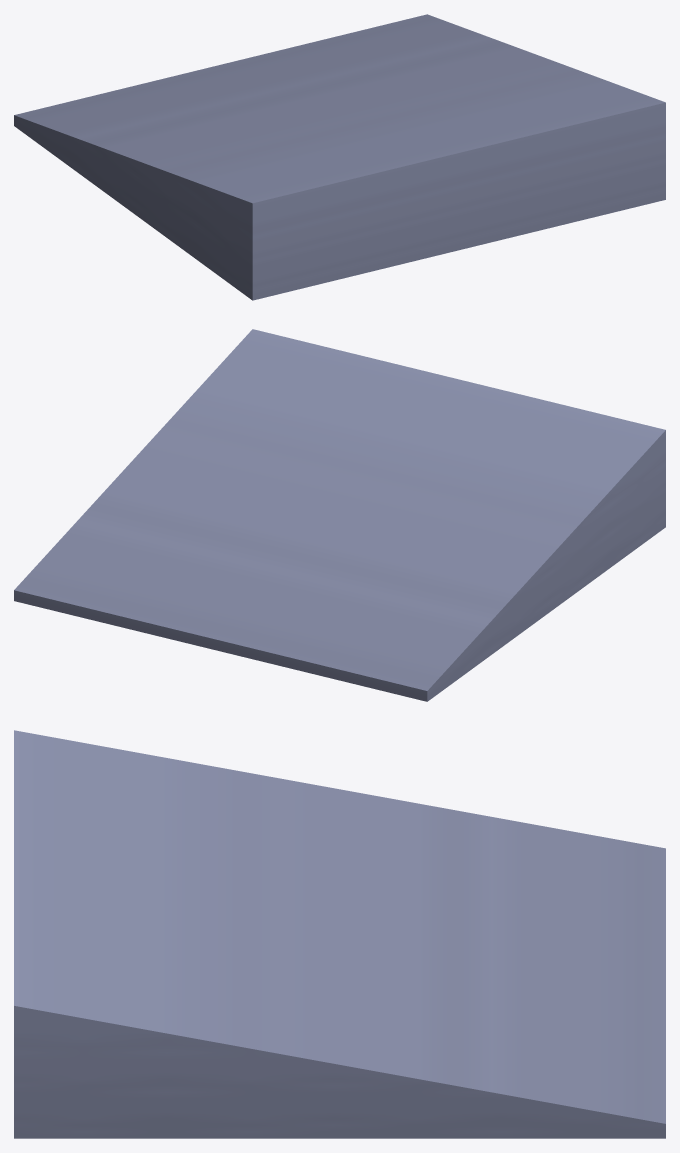
File: roadSlope.fbx
3 renders of one model, top to bottom at view 1: azimuth 30°, elevation 25°; view 2: azimuth 150°, elevation 25°; view 3: azimuth 270°, elevation 25°, orthographic. The views are drawn at different scales.
Parts seen in each view (by area): view 1: roadSlope; view 2: roadSlope; view 3: roadSlope.
Part boxes in pixels (box(x1,y1,x2,y2)): roadSlope: box(14, 14, 665, 300); roadSlope: box(14, 329, 665, 701); roadSlope: box(14, 730, 665, 1138).
Size of the model in its own units: 1 by 1 by 0.225.
